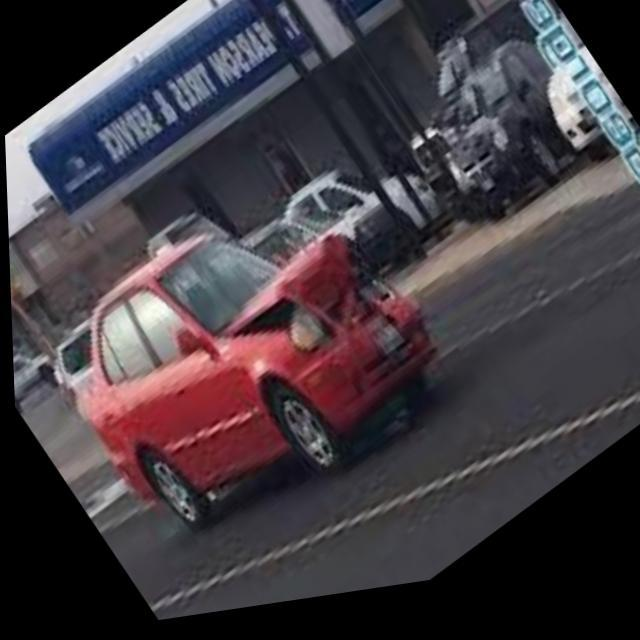dislocated part: (224, 242, 408, 362)
